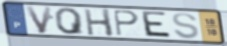E: (141, 10, 173, 39)
H: (83, 8, 116, 38)
P: (112, 9, 141, 37)
Q: (53, 7, 87, 35)
S: (171, 12, 201, 40)
V: (23, 5, 54, 35)
